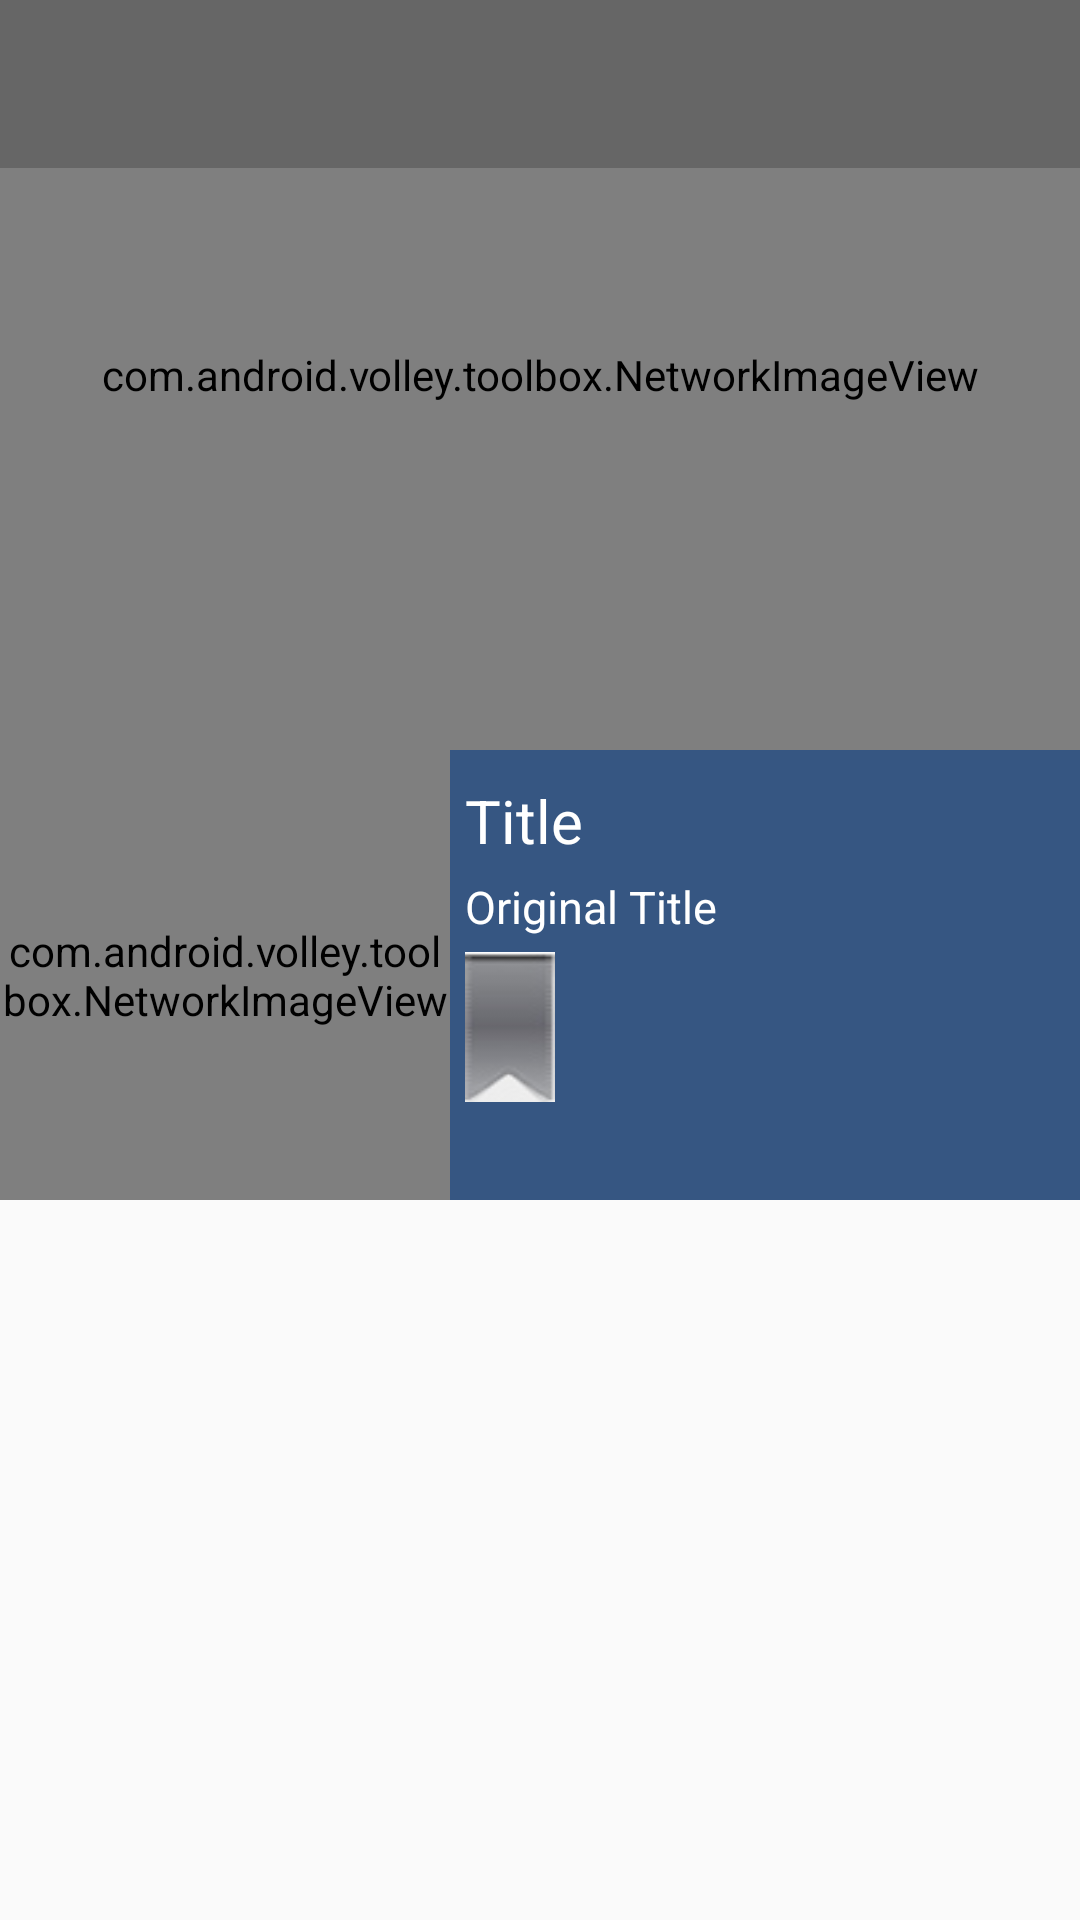

Screen size 1080 x 1920. Icon name, then its box in pixels as bbox=[x1, y1, x2, y2]:
bookmark: bbox=[465, 952, 555, 1102]
